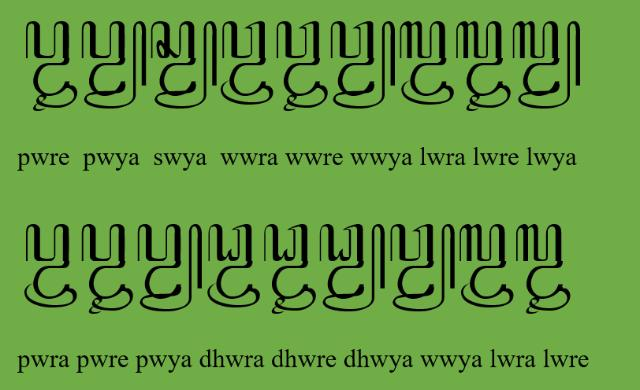dhwr: (207, 224, 261, 310)
dhwre: (264, 224, 316, 316)
dhwy: (318, 224, 386, 314)
lwr: (458, 224, 514, 310), (399, 21, 455, 106)
lwre: (456, 21, 512, 113), (516, 223, 572, 315)
lwy: (512, 20, 582, 110)
pwr: (24, 224, 78, 308)
pwre: (80, 224, 134, 316), (25, 21, 77, 112)
pwy: (80, 20, 148, 110), (137, 224, 203, 314)
swy: (150, 20, 218, 110)
wwr: (220, 21, 274, 106)
wwre: (276, 20, 328, 112)
wwy: (330, 20, 396, 110), (390, 223, 456, 312)
